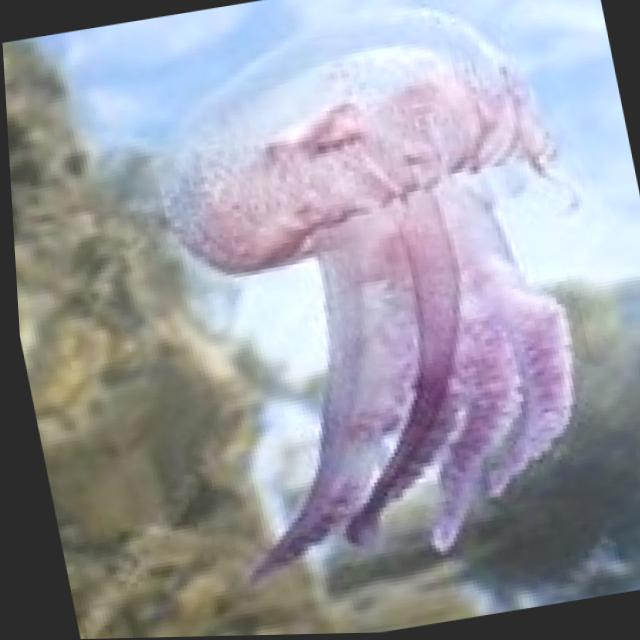Moon-jellyfish: (120, 0, 637, 594)
